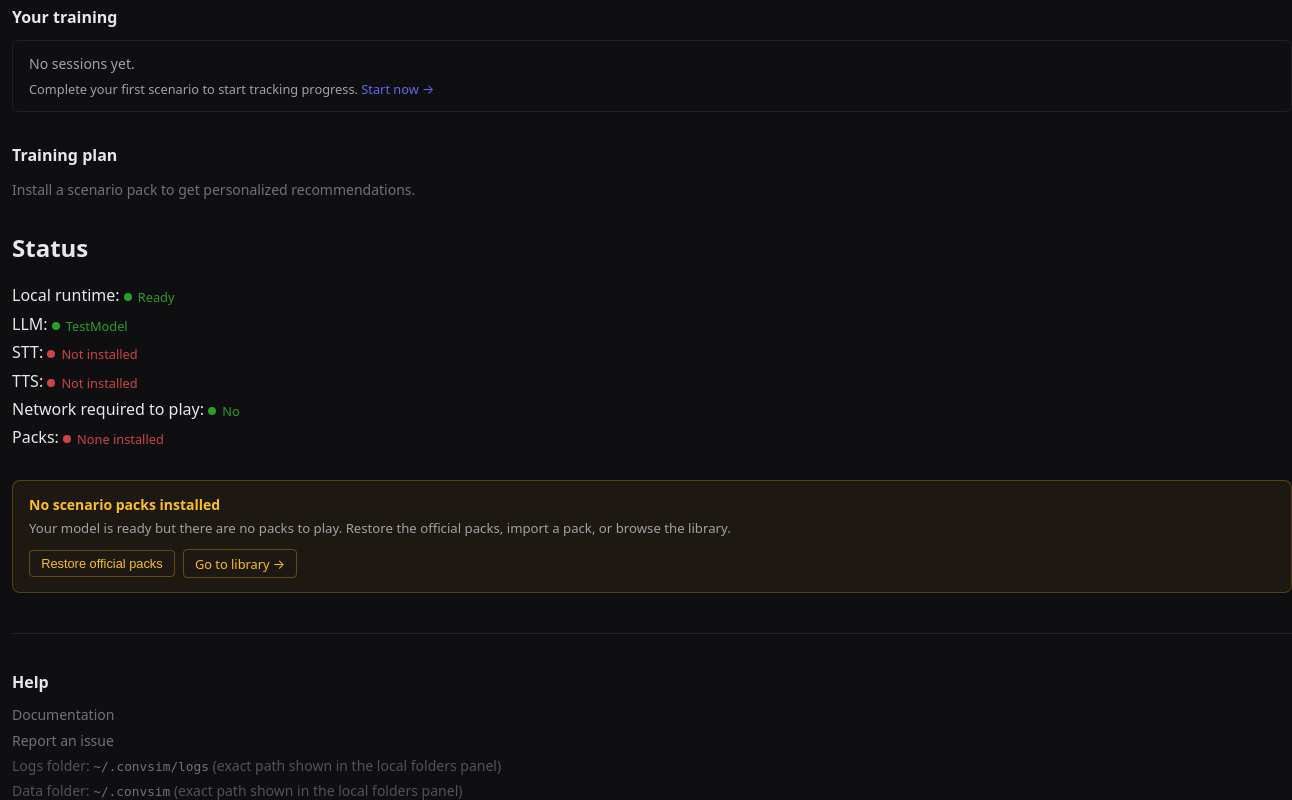
Scenario: Home — missing-pack section › shows a retry affordance when restoring official packs fails
(page scrolled)
Expected: the message "No scenario packs installed" is shown, [12,480,1291,593]
Click the button "Restore official packs" at [102, 564], box [29,550,175,577]
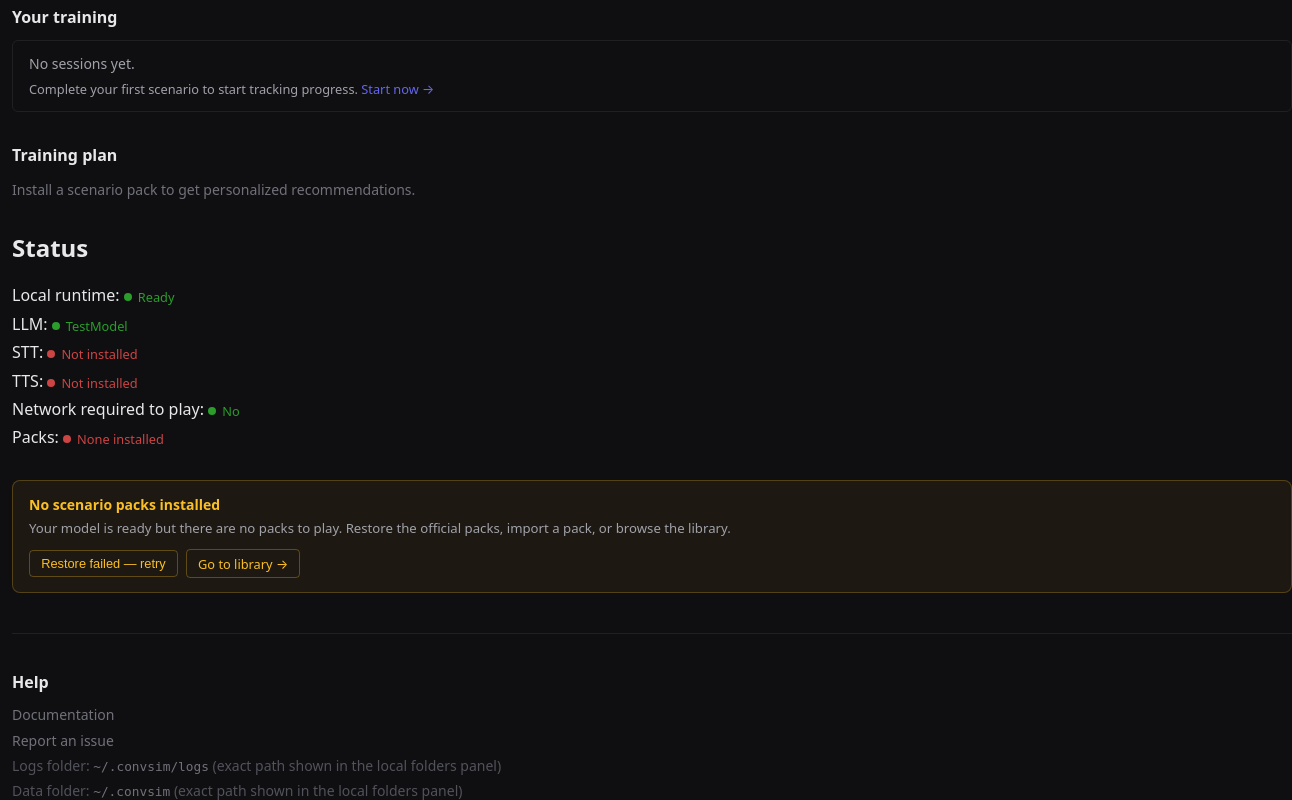
Expected: the button "Restore failed — retry" is shown, [29,550,178,577]
